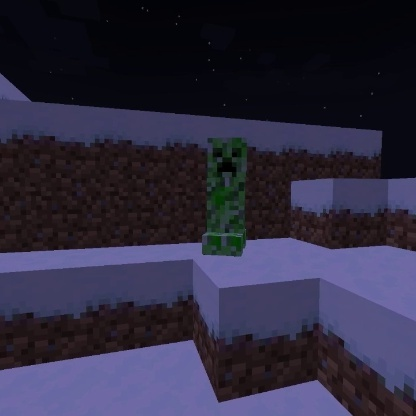creeper: (199, 135, 251, 261)
